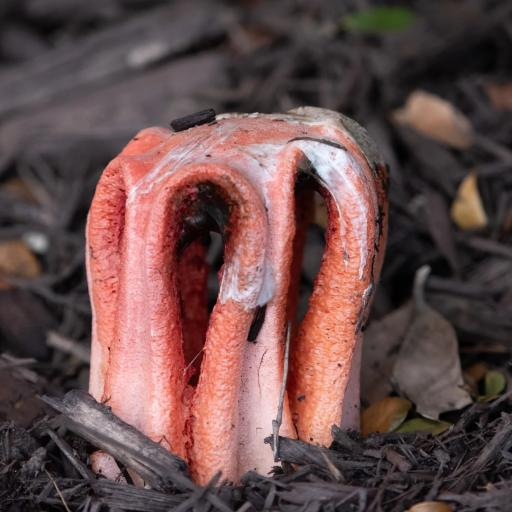Red Cage Fungus: (81, 109, 401, 477)
